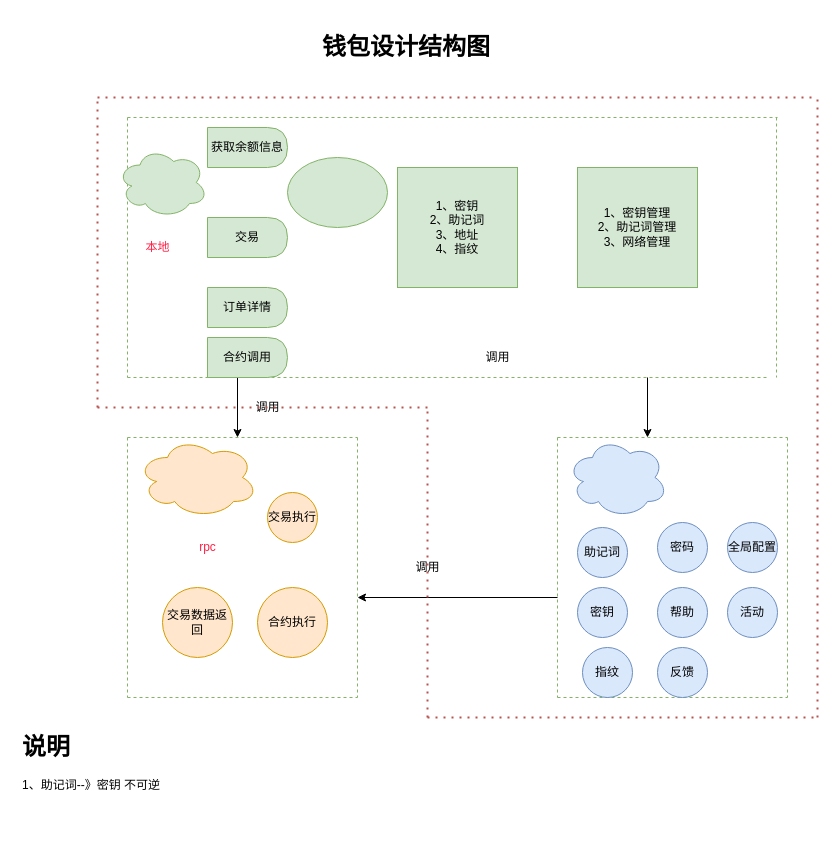
This 836x864 diagram has some shape labels left out. Each missing label, with the centre of its shape:
"RPC eth 主链" goes at point (197, 477).
"web3 js" goes at point (162, 182).
"密钥，助记词，指纹" goes at point (337, 192).
"服务端" goes at point (617, 477).
